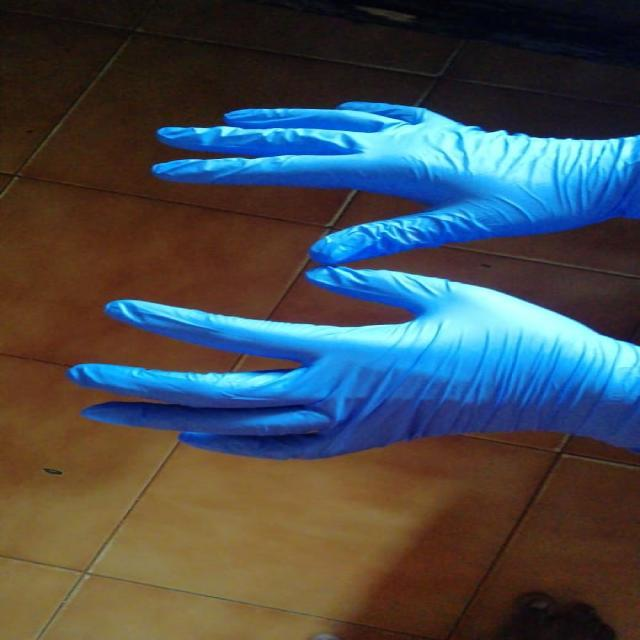glove_hand: (64, 265, 638, 466), (136, 96, 638, 267)
